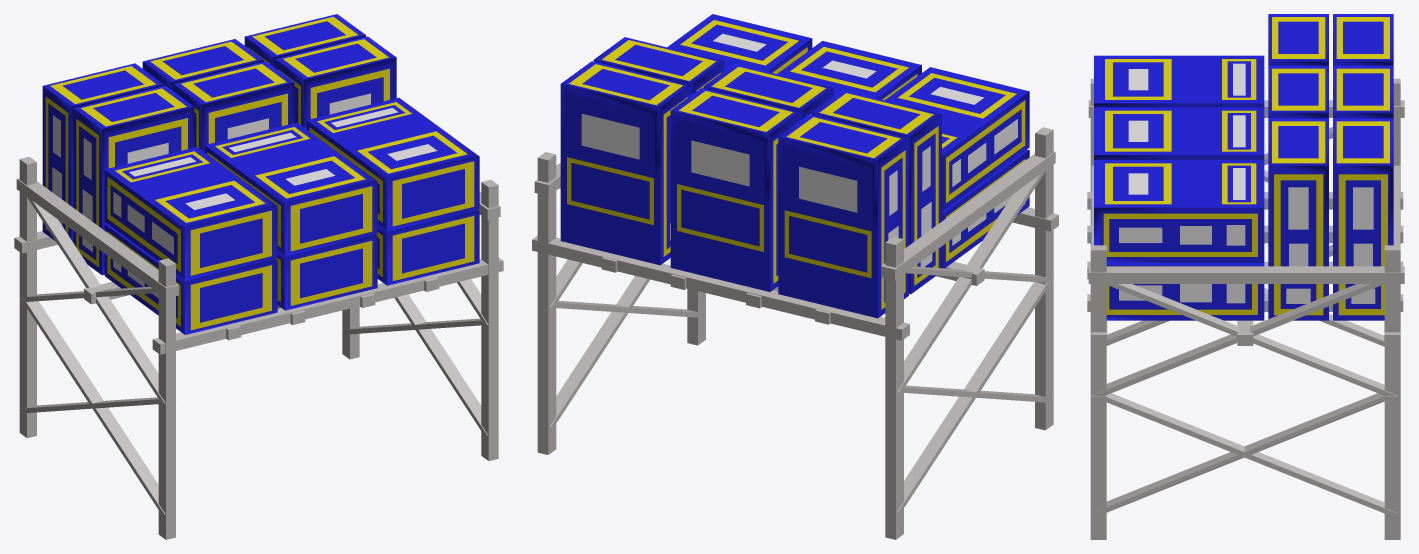
The model's file is BoxMacProvider.fbx.
3 renders of one model, left to right at view 1: azimuth 30°, elevation 25°; view 2: azimuth 150°, elevation 25°; view 3: azimuth 270°, elevation 25°, orthographic. The views are drawn at different scales.
Parts seen in each view (by area): view 1: Boxes, Frame; view 2: Boxes, Frame; view 3: Boxes, Frame.
Boxes of the visible parts, <box> form: Boxes: <box>42,14,479,334</box>; Frame: <box>14,156,503,539</box>; Boxes: <box>560,14,1029,318</box>; Frame: <box>532,127,1058,539</box>; Boxes: <box>1094,14,1393,320</box>; Frame: <box>1087,78,1404,539</box>.
Size of the model in its own units: 92.93 by 89.1 by 70.26.
